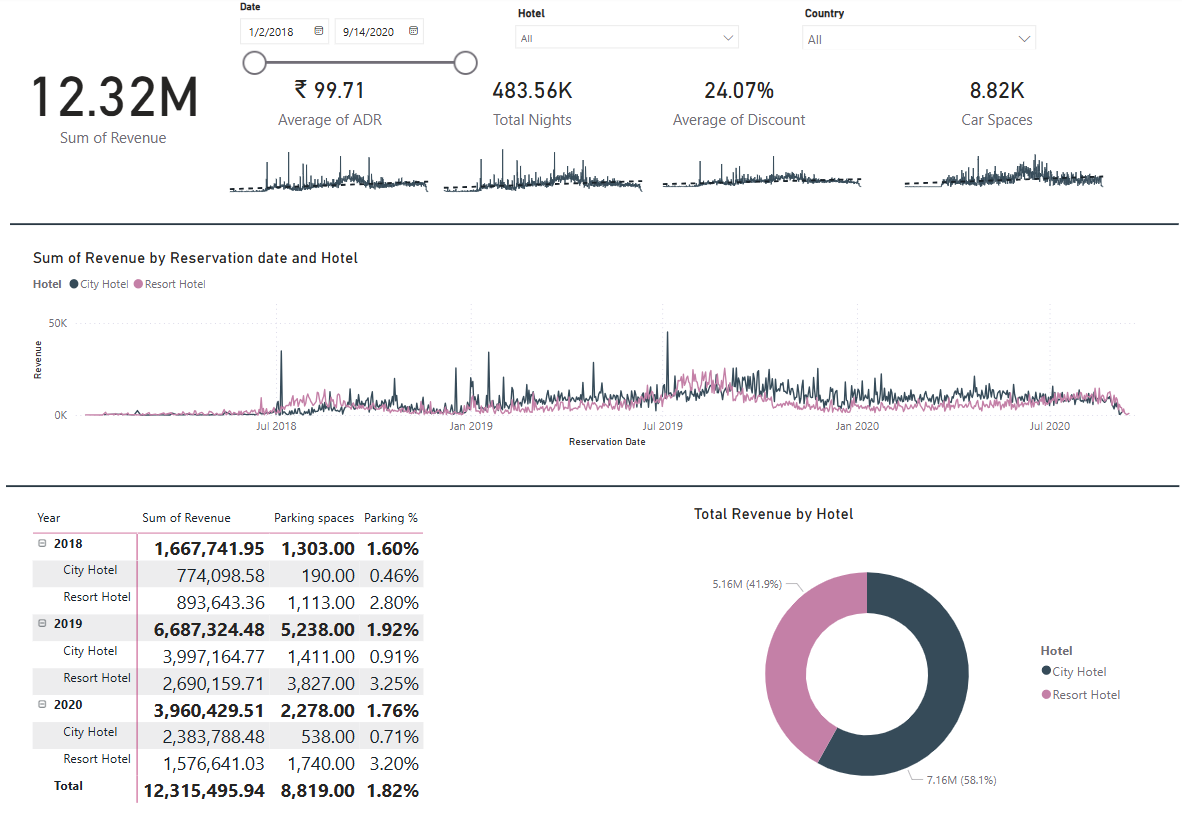

The dashboard page shown, as its layout file describes it:
{"tool":"powerbi","page":{"name":"Dashboard","canvas":[1280,920],"ordinal":0},"visuals":[{"type":"shape","box":[12.7,234.1,1259.5,24.3],"z":0},{"type":"shape","box":[8.1,511,1264.1,34.8],"z":1000},{"type":"card","fields":{"Values":["Sum(Query1.Revenue)"]},"box":[0,49.8,248,121.7],"z":2000},{"type":"card","fields":{"Values":["Avg(Query1.adr)"]},"box":[285,71,144,79.8],"z":3000},{"type":"card","fields":{"Values":["Query1.Total Nights"]},"box":[439.6,71,272.3,79.8],"z":4000},{"type":"card","fields":{"Values":["Avg(Query1.Discount)"]},"box":[668.2,71,260.7,79.8],"z":5000},{"type":"lineChart","title":"Sum of Revenue by Reservation date and Hotel","fields":{"Category":["Query1.reservation_status_date"],"Y":["Sum(Query1.Revenue)"],"Series":["Query1.hotel"]},"box":[32.4,271.1,1213.1,219],"z":5001},{"type":"lineChart","fields":{"Y":["Sum(Query1.adr)"],"Category":["Query1.reservation_status_date"]},"box":[234.4,150.8,244.1,66.1],"z":5002},{"type":"slicer","fields":{"Values":["Query1.hotel"]},"box":[546.9,7,260.7,59.1],"z":5003},{"type":"slicer","fields":{"Values":["Query1.country"]},"box":[856.3,7,272.3,51],"z":5004},{"type":"lineChart","fields":{"Y":["Query1.Total Nights"],"Category":["Query1.reservation_status_date"]},"box":[464.9,150.8,244.1,66.1],"z":5005},{"type":"lineChart","fields":{"Y":["Sum(Query1.Discount)"],"Category":["Query1.reservation_status_date"]},"box":[701.3,144.9,244.1,66.1],"z":5006},{"type":"card","fields":{"Values":["Sum(Query1.required_car_parking_spaces)"]},"box":[945.4,71,260.7,79.8],"z":5008},{"type":"lineChart","fields":{"Y":["Sum(Query1.required_car_parking_spaces)"],"Category":["Query1.reservation_status_date"]},"box":[961.9,144.9,244.1,66.1],"z":5009},{"type":"donutChart","fields":{"Category":["Query1.hotel"],"Y":["Sum(Query1.Revenue)"]},"box":[743.9,546.9,478.5,347.6],"z":5010},{"type":"pivotTable","fields":{"Rows":["Query1.reservation_status_date.Variation.Date Hierarchy.Year","Query1.hotel"],"Values":["Sum(Query1.Revenue)","Sum(Query1.required_car_parking_spaces)","Query1.Parking %"]},"box":[32.4,545.7,595.6,348.8],"z":5011},{"type":"slicer","fields":{"Values":["Query1.reservation_status_date"]},"box":[248,0,276.9,89.2],"z":5012}]}

Visuals, with their boxes on the page's 1280x920 design canvas (x1, y1, x2, y2). These are canvas units, not pixel positions in the 1182x821 screenshot, which may show the page scaled, cropped or inside an application window:
shape: <region>13, 234, 1272, 258</region>
shape: <region>8, 511, 1272, 546</region>
card - Sum(Query1.Revenue): <region>0, 50, 248, 172</region>
card - Avg(Query1.adr): <region>285, 71, 429, 151</region>
card - Query1.Total Nights: <region>440, 71, 712, 151</region>
card - Avg(Query1.Discount): <region>668, 71, 929, 151</region>
"Sum of Revenue by Reservation date and Hotel" lineChart: <region>32, 271, 1246, 490</region>
lineChart - Sum(Query1.adr) x Query1.reservation_status_date: <region>234, 151, 478, 217</region>
slicer - Query1.hotel: <region>547, 7, 808, 66</region>
slicer - Query1.country: <region>856, 7, 1129, 58</region>
lineChart - Query1.Total Nights x Query1.reservation_status_date: <region>465, 151, 709, 217</region>
lineChart - Sum(Query1.Discount) x Query1.reservation_status_date: <region>701, 145, 945, 211</region>
card - Sum(Query1.required_car_parking_spaces): <region>945, 71, 1206, 151</region>
lineChart - Sum(Query1.required_car_parking_spaces) x Query1.reservation_status_date: <region>962, 145, 1206, 211</region>
donutChart - Query1.hotel x Sum(Query1.Revenue): <region>744, 547, 1222, 894</region>
pivotTable - Query1.reservation_status_date.Variation.Date Hierarchy.Year x Query1.hotel: <region>32, 546, 628, 894</region>
slicer - Query1.reservation_status_date: <region>248, 0, 525, 89</region>
